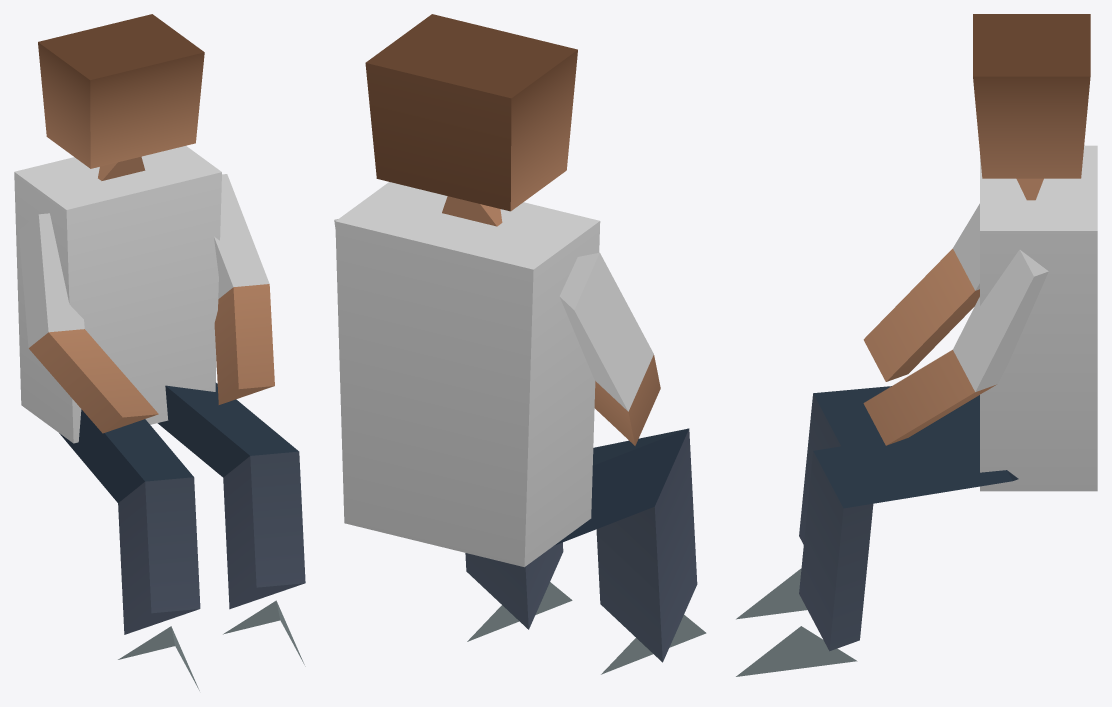
Rendered from fan-03.glb.
The picture shows the model from 3 angles, left to right: view 1: azimuth 30°, elevation 25°; view 2: azimuth 150°, elevation 25°; view 3: azimuth 270°, elevation 25°; orthographic projection. The views are drawn at different scales.
Visible parts, largest first — view 1: fan-03; view 2: fan-03; view 3: fan-03.
Part boxes in pixels (left/top/right/bottom): fan-03: left=14, top=14, right=305, bottom=690; fan-03: left=334, top=14, right=706, bottom=674; fan-03: left=736, top=14, right=1097, bottom=676.
Bounding box in the file's own units: 0.6375 × 1.41 × 0.77.
